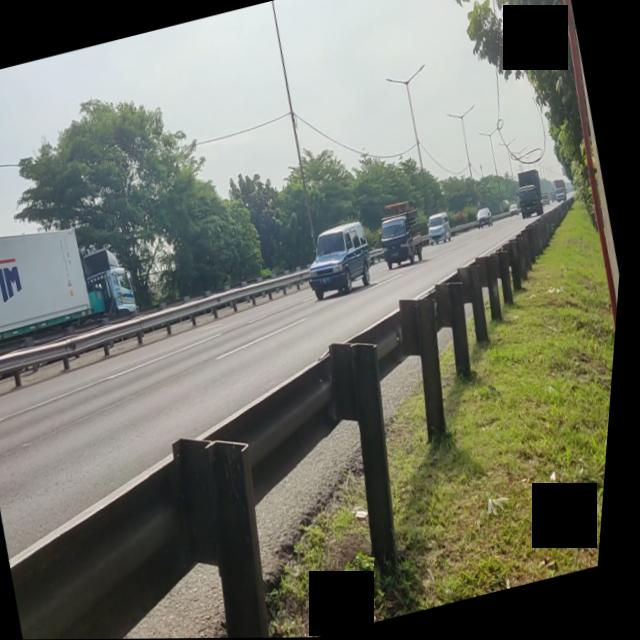Golongan I: (299, 217, 385, 305)
